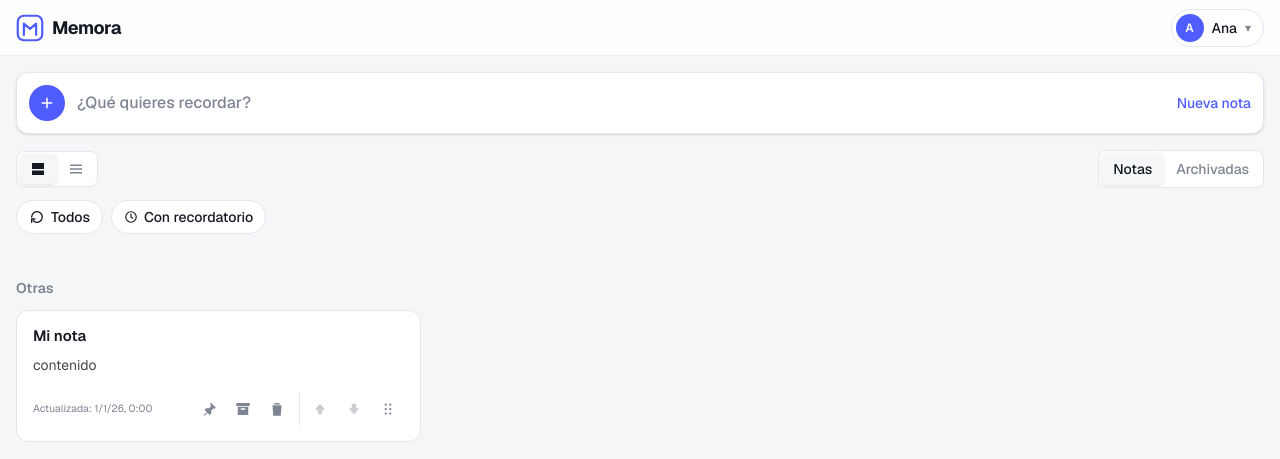
Scenario: NotesPage (listado) › alterna entre Notas y Archivadas (RF-1, RF-2)
Expected: the heading "Mi nota" is shown, [33,326,86,345]
Expected: the text "Mi archivada" is not shown
Click the button "Archivadas" at point(1213, 169), box [1164,153,1261,185]
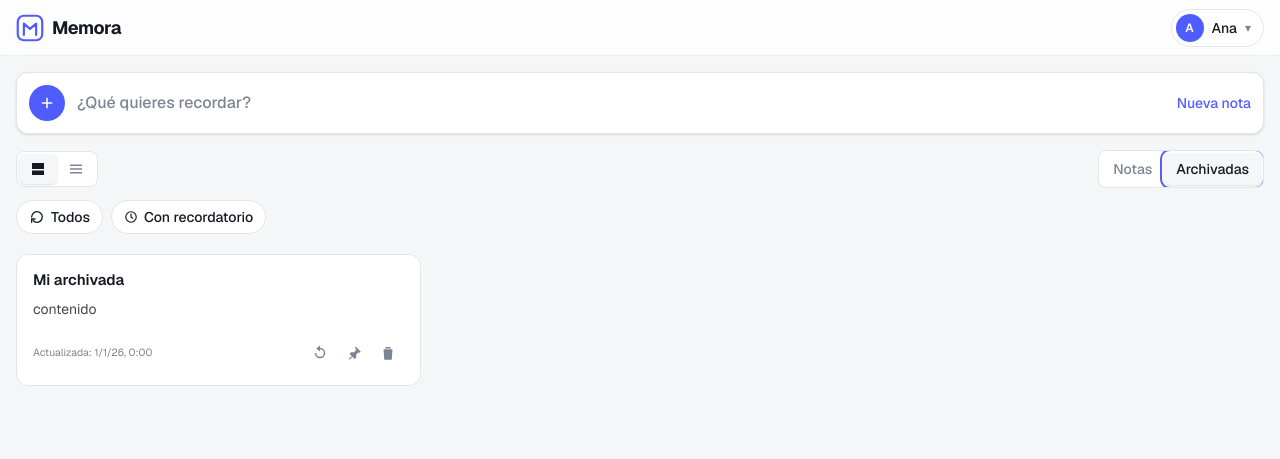
Now the heading "Mi archivada" is shown, box [33,270,124,289]
Now the button "Mi nota" is gone
